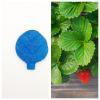Strawberry leaf: (57, 50, 80, 79), (71, 14, 93, 43), (73, 41, 95, 67), (57, 32, 84, 52), (56, 1, 84, 19)
